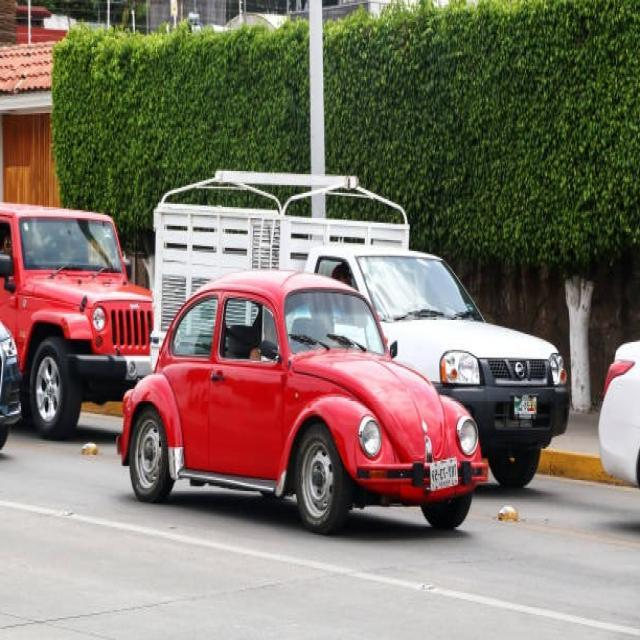car: (157, 248, 578, 472), (115, 272, 492, 514), (0, 216, 152, 424)
